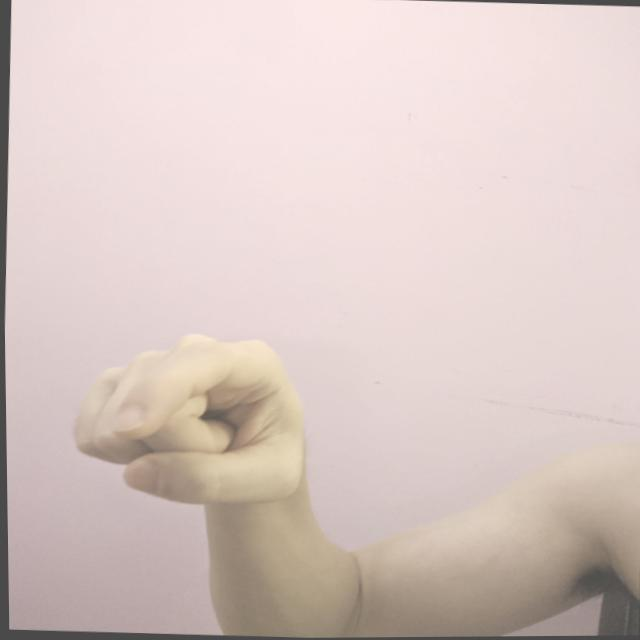Z: (60, 324, 317, 515)
